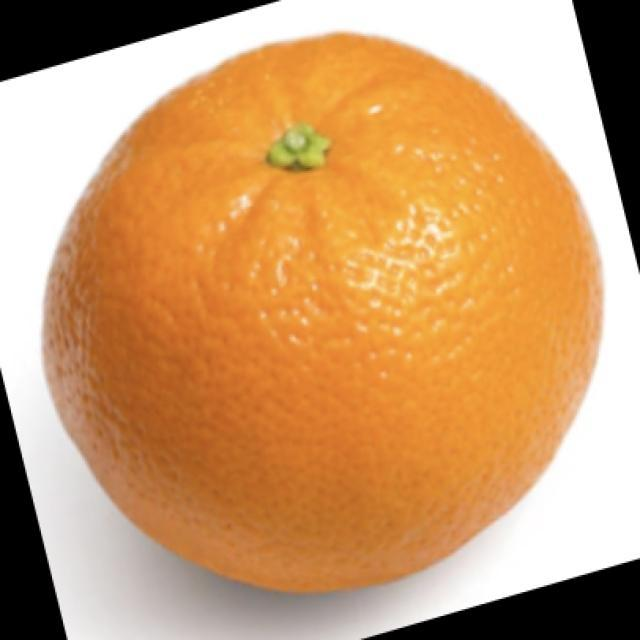matang: (44, 34, 601, 591)
